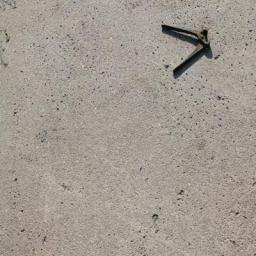FOD: (161, 22, 217, 76)
